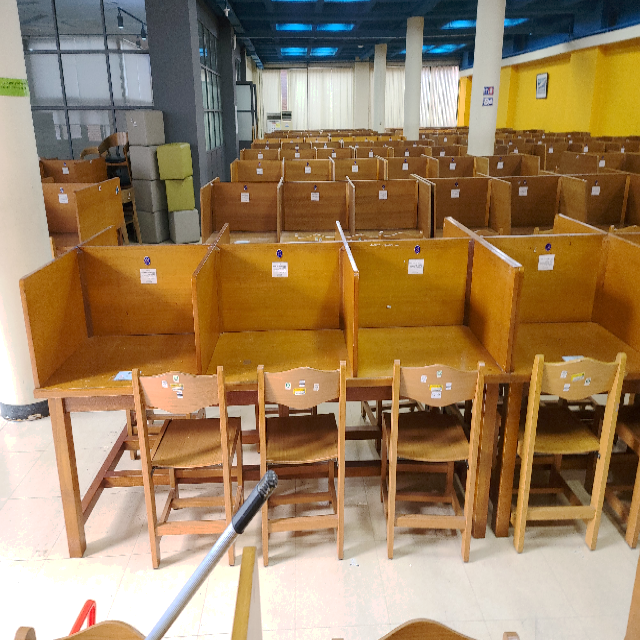empty: (61, 276, 201, 482), (357, 277, 500, 470), (212, 280, 344, 461)
